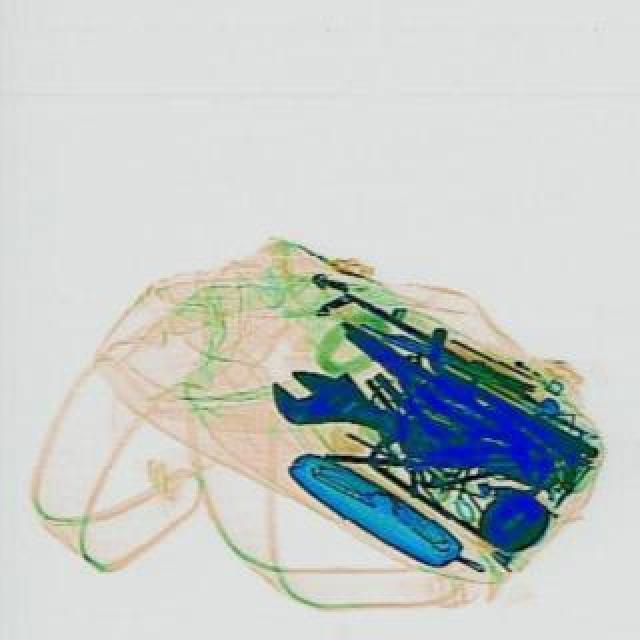scissors: (260, 350, 566, 510)
